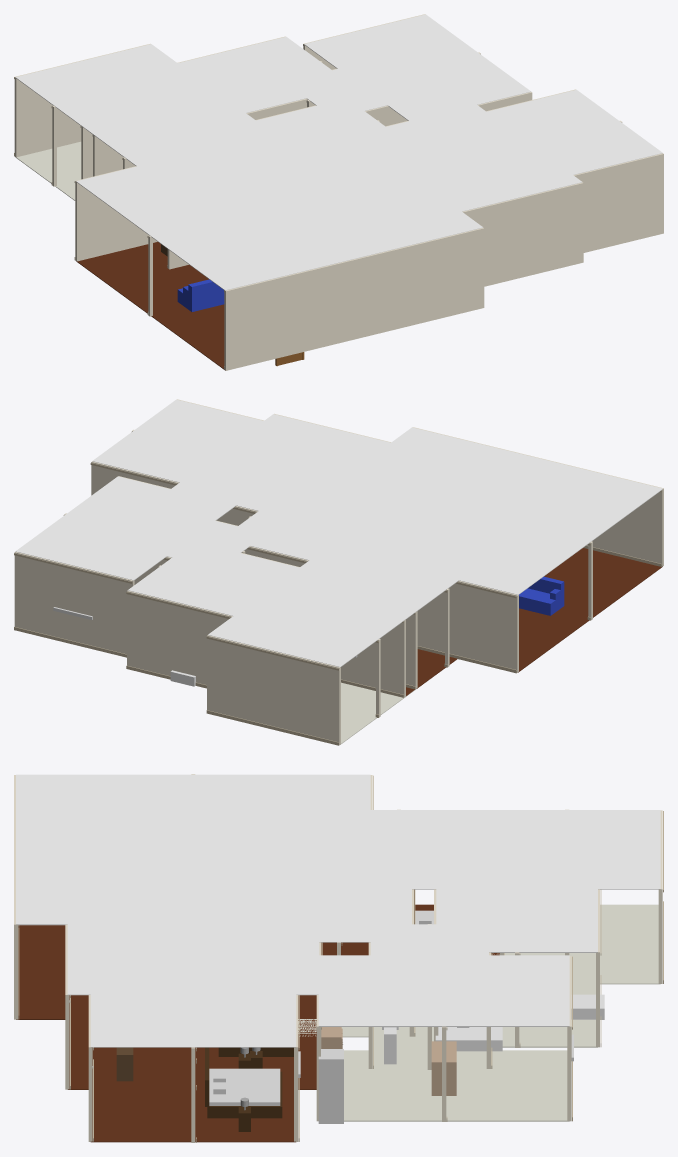
The model's file is ultra_detailed_4219.obj.
3 views of the same model, one above another, from view 1: azimuth 30°, elevation 25°; view 2: azimuth 150°, elevation 25°; view 3: azimuth 270°, elevation 25° (orthographic). The views are drawn at different scales.
Visible parts, largest first — view 1: Grand_Living_Room_ceiling_Grand_Living_Room_ceiling_material, Grand_Living_Room_front_wall_Grand_Living_Room_front_wall_materi, Master_Suite_ceiling_Master_Suite_ceiling_material, Gourmet_Kitchen_ceiling_Gourmet_Kitchen_ceiling_material, Guest_Bedroom_2_ceiling_Guest_Bedroom_2_ceiling_material, Guest_Bedroom_1_ceiling_Guest_Bedroom_1_ceiling_material, Formal_Dining_ceiling_Formal_Dining_ceiling_material, Master_Suite_front_wall_Master_Suite_front_wall_material, Master_Bathroom_ceiling_Master_Bathroom_ceiling_material, Grand_Living_Room_floor_Grand_Living_Room_floor_material, Guest_Bedroom_1_front_wall_Guest_Bedroom_1_front_wall_material, Office_ceiling_Office_ceiling_material (+9 smaller); view 2: Grand_Living_Room_ceiling_Grand_Living_Room_ceiling_material, Master_Suite_ceiling_Master_Suite_ceiling_material, Gourmet_Kitchen_ceiling_Gourmet_Kitchen_ceiling_material, Formal_Dining_ceiling_Formal_Dining_ceiling_material, Formal_Dining_back_wall_Formal_Dining_back_wall_material, Gourmet_Kitchen_back_wall_Gourmet_Kitchen_back_wall_material, Guest_Bedroom_1_ceiling_Guest_Bedroom_1_ceiling_material, Master_Bathroom_ceiling_Master_Bathroom_ceiling_material, Grand_Living_Room_floor_Grand_Living_Room_floor_material, Grand_Living_Room_back_wall_Grand_Living_Room_back_wall_material, Guest_Bedroom_2_ceiling_Guest_Bedroom_2_ceiling_material, Master_Bathroom_back_wall_Master_Bathroom_back_wall_material (+10 smaller); view 3: Grand_Living_Room_ceiling_Grand_Living_Room_ceiling_material, Guest_Bedroom_1_ceiling_Guest_Bedroom_1_ceiling_material, Gourmet_Kitchen_ceiling_Gourmet_Kitchen_ceiling_material, Master_Suite_ceiling_Master_Suite_ceiling_material, Guest_Bedroom_2_ceiling_Guest_Bedroom_2_ceiling_material, Formal_Dining_ceiling_Formal_Dining_ceiling_material, Gourmet_Kitchen_floor_Gourmet_Kitchen_floor_material, Master_Bathroom_ceiling_Master_Bathroom_ceiling_material, Guest_Bedroom_1_floor_Guest_Bedroom_1_floor_material, Master_Suite_floor_Master_Suite_floor_material, Grand_Living_Room_floor_Grand_Living_Room_floor_material, Formal_Dining_floor_Formal_Dining_floor_material (+19 smaller).
Part boxes in pixels (box(x1,y1,x2,y2)): Grand_Living_Room_ceiling_Grand_Living_Room_ceiling_material: box(76, 141, 482, 290); Grand_Living_Room_front_wall_Grand_Living_Room_front_wall_materi: box(224, 227, 484, 370); Master_Suite_ceiling_Master_Suite_ceiling_material: box(334, 105, 582, 222); Gourmet_Kitchen_ceiling_Gourmet_Kitchen_ceiling_material: box(304, 14, 531, 120); Guest_Bedroom_2_ceiling_Guest_Bedroom_2_ceiling_material: box(82, 93, 301, 188); Guest_Bedroom_1_ceiling_Guest_Bedroom_1_ceiling_material: box(441, 89, 662, 180); Formal_Dining_ceiling_Formal_Dining_ceiling_material: box(15, 44, 217, 134); Master_Suite_front_wall_Master_Suite_front_wall_material: box(462, 182, 583, 286); Master_Bathroom_ceiling_Master_Bathroom_ceiling_material: box(175, 36, 353, 114); Grand_Living_Room_floor_Grand_Living_Room_floor_material: box(76, 242, 225, 370); Guest_Bedroom_1_front_wall_Guest_Bedroom_1_front_wall_material: box(573, 153, 663, 252); Office_ceiling_Office_ceiling_material: box(256, 99, 407, 168); Grand_Living_Room_ceiling_Grand_Living_Room_ceiling_material: box(267, 427, 662, 594); Master_Suite_ceiling_Master_Suite_ceiling_material: box(171, 414, 434, 519); Gourmet_Kitchen_ceiling_Gourmet_Kitchen_ceiling_material: box(15, 476, 235, 580); Formal_Dining_ceiling_Formal_Dining_ceiling_material: box(208, 579, 416, 666); Formal_Dining_back_wall_Formal_Dining_back_wall_material: box(207, 635, 340, 744); Gourmet_Kitchen_back_wall_Gourmet_Kitchen_back_wall_material: box(14, 551, 134, 653); Guest_Bedroom_1_ceiling_Guest_Bedroom_1_ceiling_material: box(92, 399, 306, 492); Master_Bathroom_ceiling_Master_Bathroom_ceiling_material: box(127, 542, 307, 617); Grand_Living_Room_floor_Grand_Living_Room_floor_material: box(518, 548, 662, 672); Grand_Living_Room_back_wall_Grand_Living_Room_back_wall_material: box(417, 580, 518, 672); Guest_Bedroom_2_ceiling_Guest_Bedroom_2_ceiling_material: box(274, 551, 458, 619); Master_Bathroom_back_wall_Master_Bathroom_back_wall_material: box(127, 590, 232, 684); Grand_Living_Room_ceiling_Grand_Living_Room_ceiling_material: box(16, 774, 370, 925); Guest_Bedroom_1_ceiling_Guest_Bedroom_1_ceiling_material: box(90, 968, 296, 1047); Gourmet_Kitchen_ceiling_Gourmet_Kitchen_ceiling_material: box(318, 955, 569, 1026); Master_Suite_ceiling_Master_Suite_ceiling_material: box(67, 898, 319, 995); Guest_Bedroom_2_ceiling_Guest_Bedroom_2_ceiling_material: box(296, 810, 501, 889); Formal_Dining_ceiling_Formal_Dining_ceiling_material: box(473, 810, 660, 889); Gourmet_Kitchen_floor_Gourmet_Kitchen_floor_material: box(344, 1050, 569, 1121); Master_Bathroom_ceiling_Master_Bathroom_ceiling_material: box(436, 883, 597, 952); Guest_Bedroom_1_floor_Guest_Bedroom_1_floor_material: box(91, 1089, 295, 1142); Master_Suite_floor_Master_Suite_floor_material: box(68, 1019, 316, 1089); Grand_Living_Room_floor_Grand_Living_Room_floor_material: box(16, 925, 368, 1019); Formal_Dining_floor_Formal_Dining_floor_material: box(492, 904, 660, 984).
Size of the model in its own units: 15.52 by 2.87 by 15.55.
